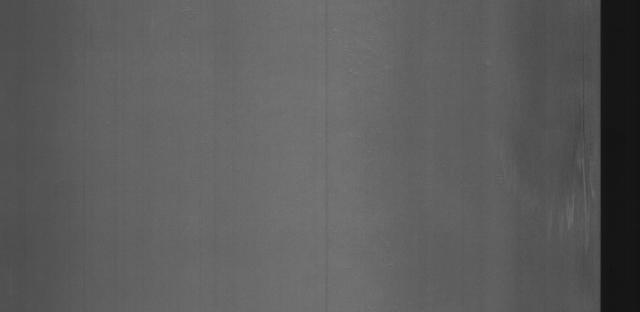silk_spot: (544, 120, 598, 255)
